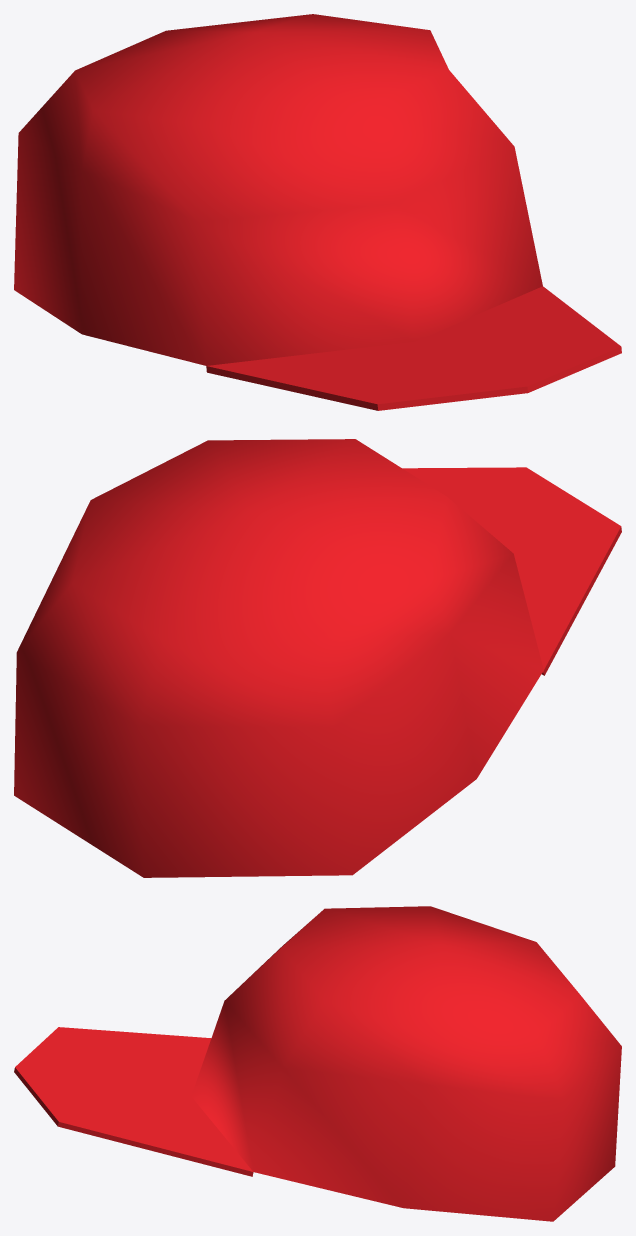
Rendered from prop_maga_hat.fbx.
The picture shows the model from 3 angles, top to bottom: view 1: azimuth 30°, elevation 25°; view 2: azimuth 150°, elevation 25°; view 3: azimuth 270°, elevation 25°; orthographic projection. The views are drawn at different scales.
Visible parts, largest first — view 1: casquette maga; view 2: casquette maga; view 3: casquette maga.
Part boxes in pixels (box(x1,y1,x2,y2)): casquette maga: box(14, 14, 621, 410); casquette maga: box(14, 439, 621, 877); casquette maga: box(14, 906, 621, 1221).
Size of the model in its own units: 0.5626 by 0.3853 by 0.9606.
Materials: 1 (1 with a texture image).
